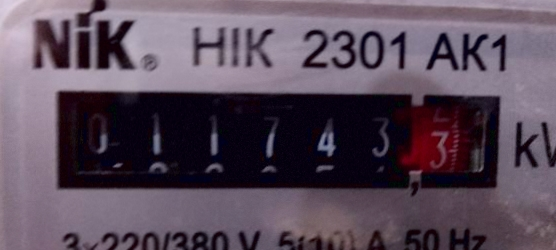0: (82, 109, 111, 156)
1: (202, 110, 223, 158), (147, 110, 164, 158)
3: (366, 113, 394, 160), (426, 127, 450, 171)
4: (312, 111, 340, 159)
7: (258, 112, 282, 160)
screen: (40, 80, 506, 200)
